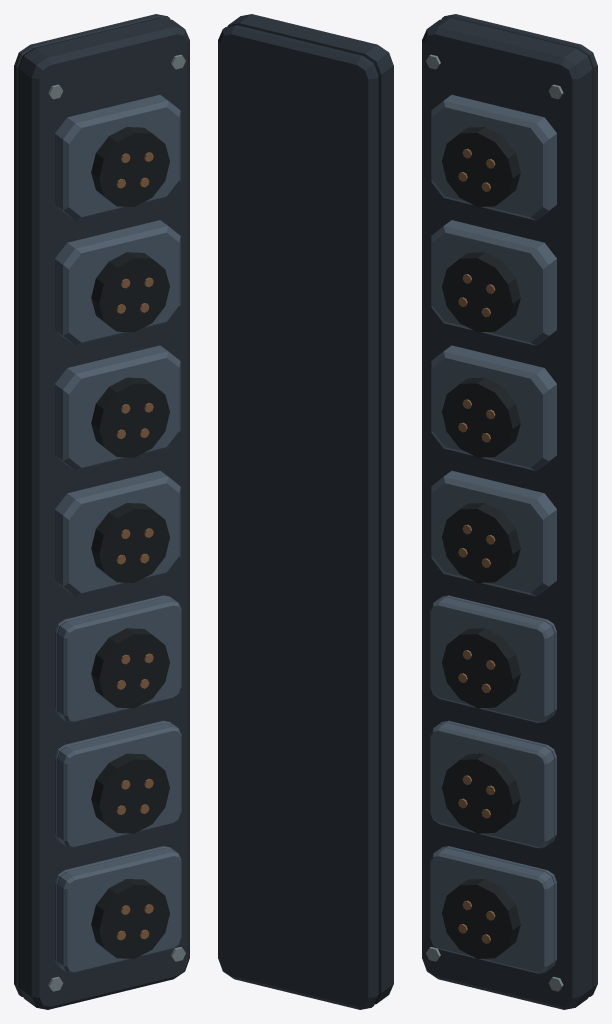
Rendered from HX-02_gate_sockets.glb.
3 views of the same model, side by side, from view 1: azimuth 30°, elevation 25°; view 2: azimuth 150°, elevation 25°; view 3: azimuth 330°, elevation 25° (orthographic).
Visible parts, largest first — view 1: HX-02_gate_sockets; view 2: HX-02_gate_sockets; view 3: HX-02_gate_sockets.
Part boxes in pixels (box(x1,y1,x2,y2)): HX-02_gate_sockets: box(14, 14, 189, 1009); HX-02_gate_sockets: box(218, 14, 393, 1009); HX-02_gate_sockets: box(422, 14, 597, 1009).
Bounding box in the file's own units: 0.33 × 1.9 × 0.1645.
